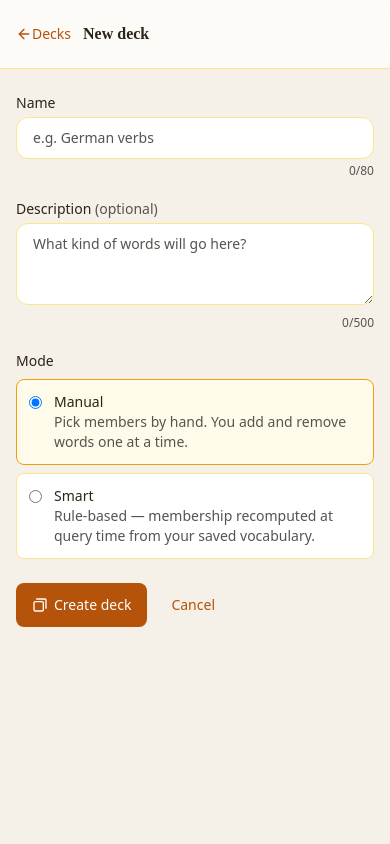
Test case: blocks submission when the name is blank
Click the button with test id "deck-submit-btn".
click(82, 605)  # box [16, 583, 147, 627]
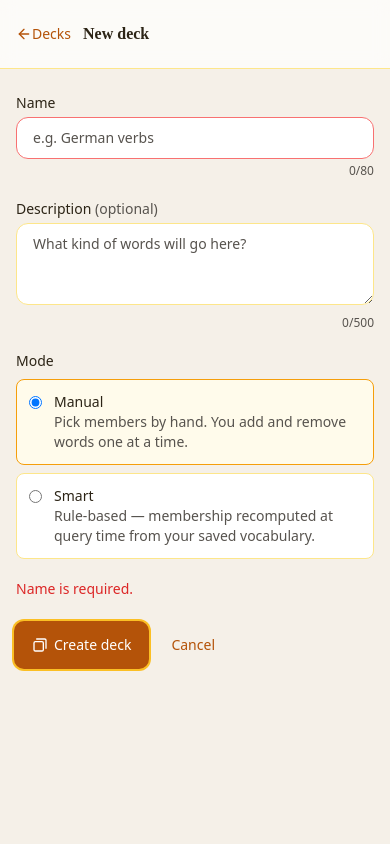
Expected: the message with test id "deck-form-error" shows "Name", [16, 579, 133, 598]
